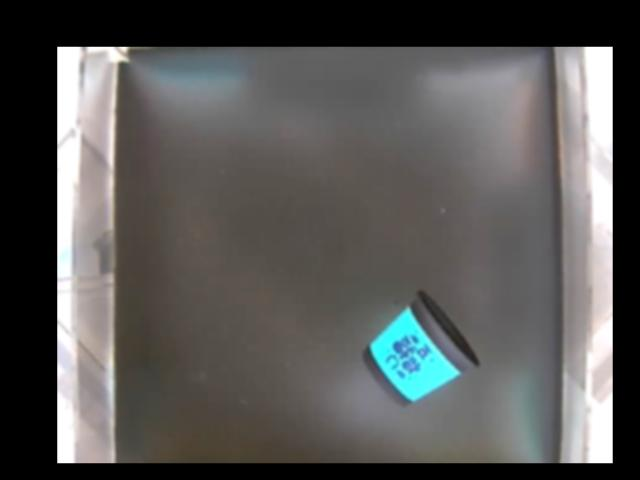Cup: (360, 288, 476, 407)
